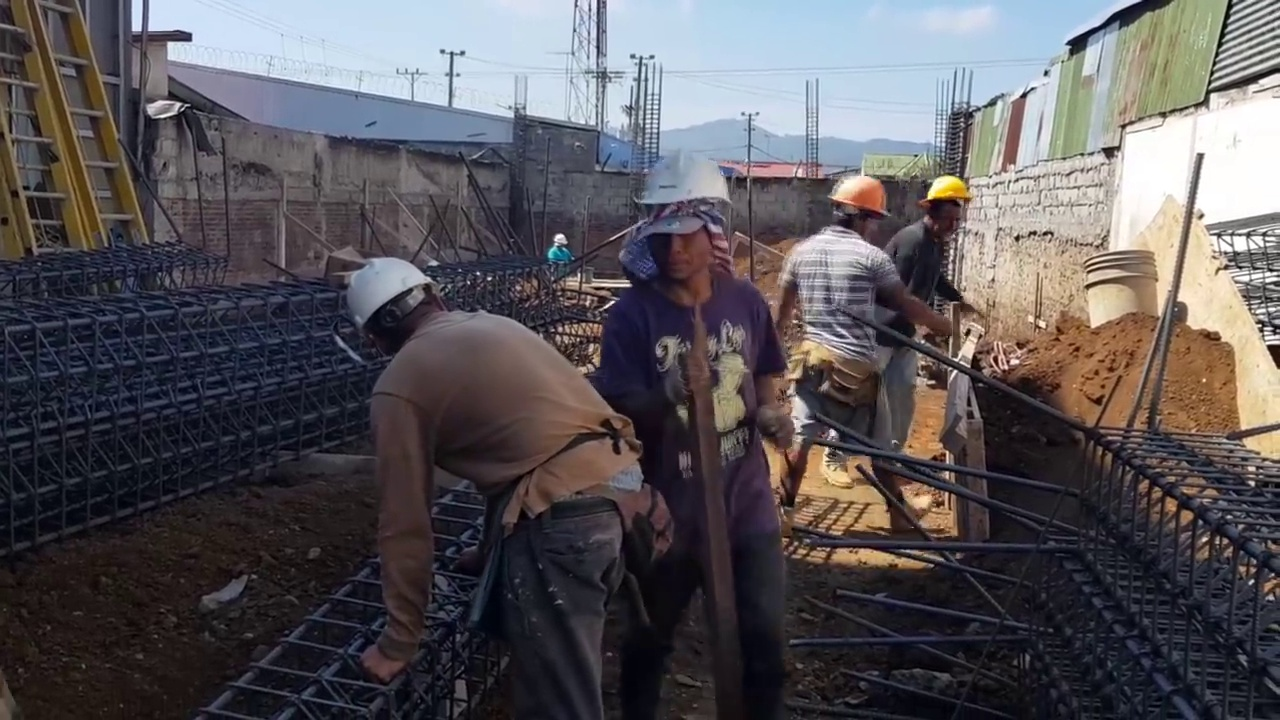helmet: (621, 142, 733, 228), (337, 257, 433, 343), (836, 177, 894, 213), (928, 176, 973, 207), (554, 234, 569, 245)
helmet-on: (620, 142, 733, 300), (340, 252, 463, 357), (818, 175, 894, 242), (917, 177, 972, 240), (552, 233, 569, 250)
person: (338, 252, 648, 713), (588, 136, 802, 696), (785, 176, 950, 491), (890, 174, 987, 379), (547, 233, 573, 274)
